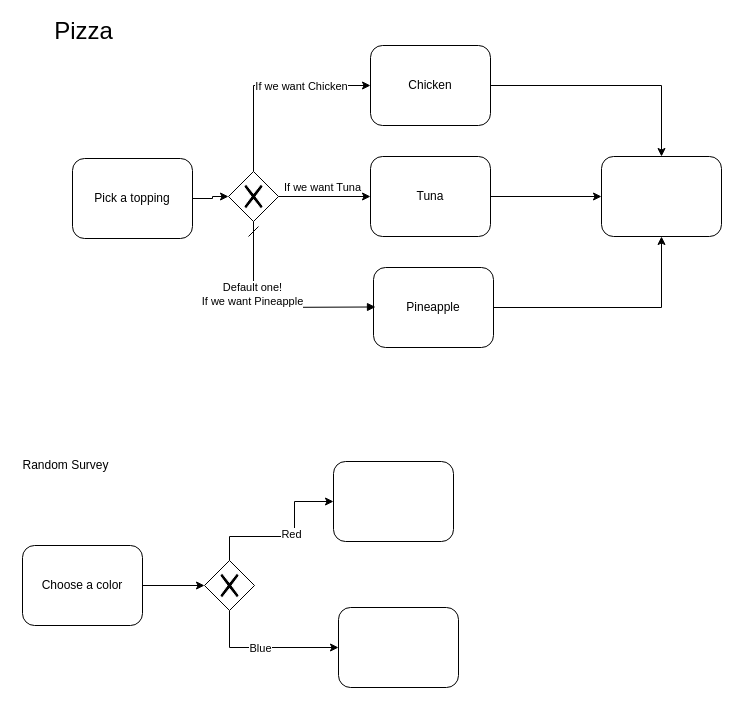
Image size: 739x705. Some labels were removed from this diagram. The shapes that lost their labels are listed below. From the top down, each one's centre as x and y in pixels, then its label:
At [661,196]: "Random Task".
At [393,501]: "Win a Car".
At [398,647]: "Lose Everything".
